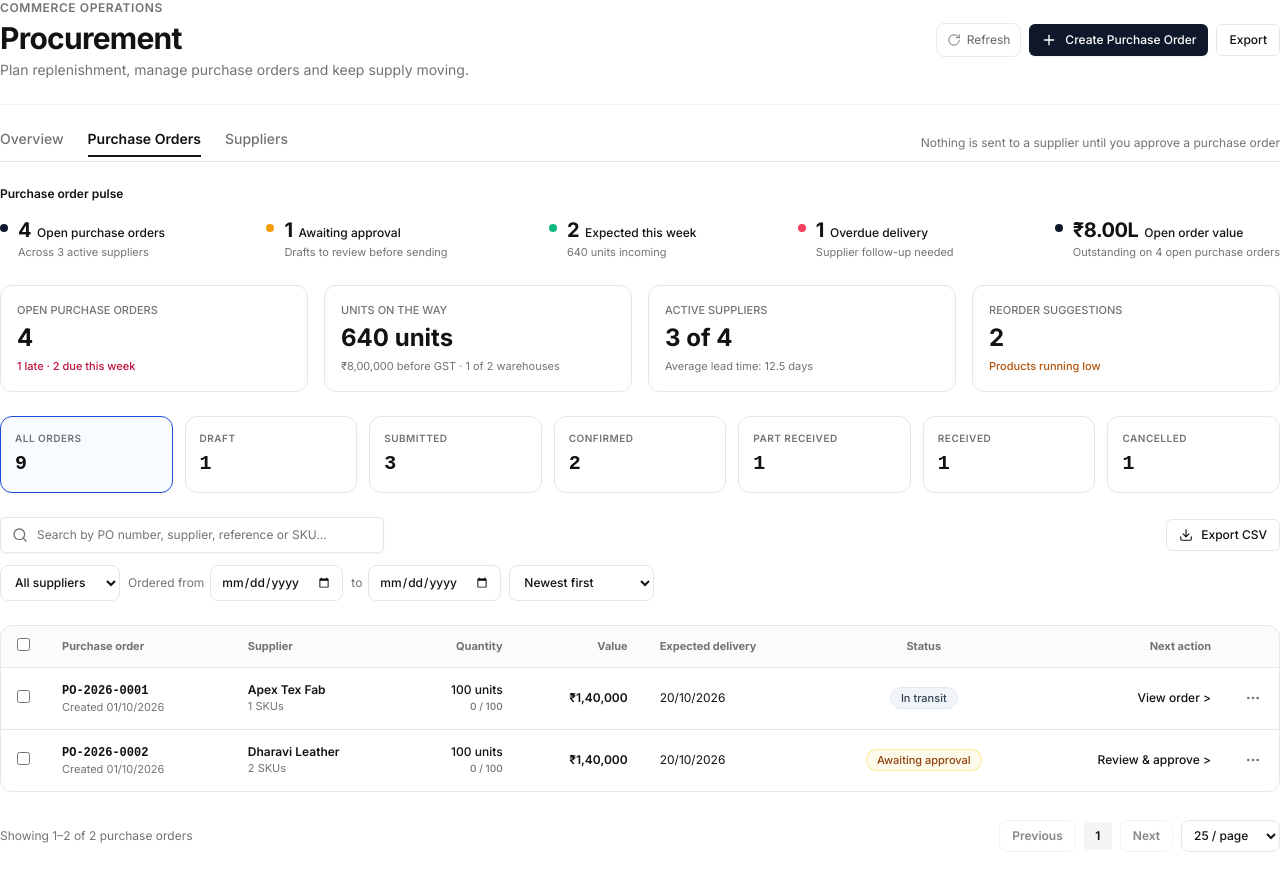
ProcurementPage: create and edit › maps a server field error onto its field and keeps the dialog open
Expected: the row with test id "po-row-PO-2026-0001" is shown, 1,667 -> 1279,729
Click the button with aria-label "New purchase order". click: (1119, 40)
box: 1029,24 -> 1208,56
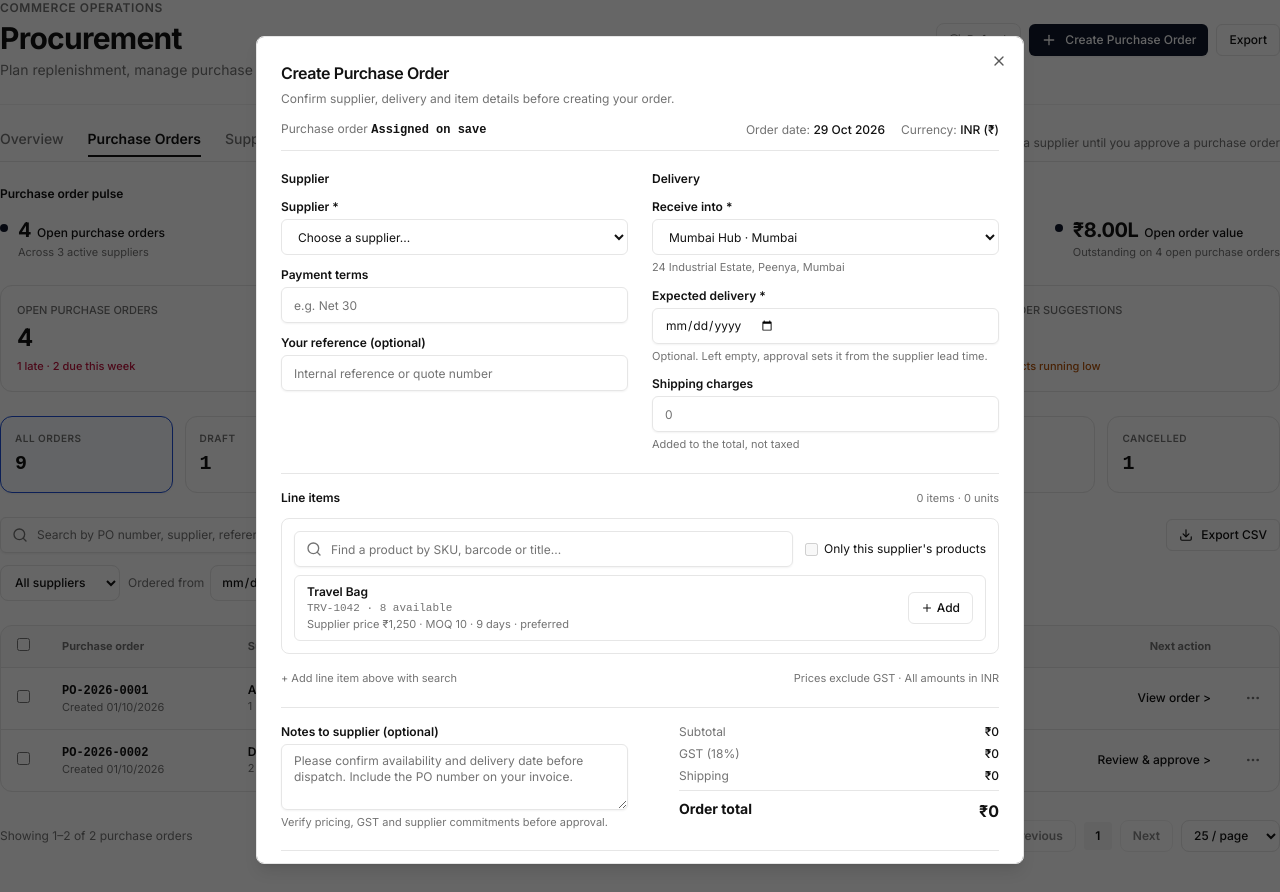
Select "Apex Tex Fab (Surat)" in the dropdown labelled "Supplier *". click: (454, 237)
box: 281,219 -> 628,255
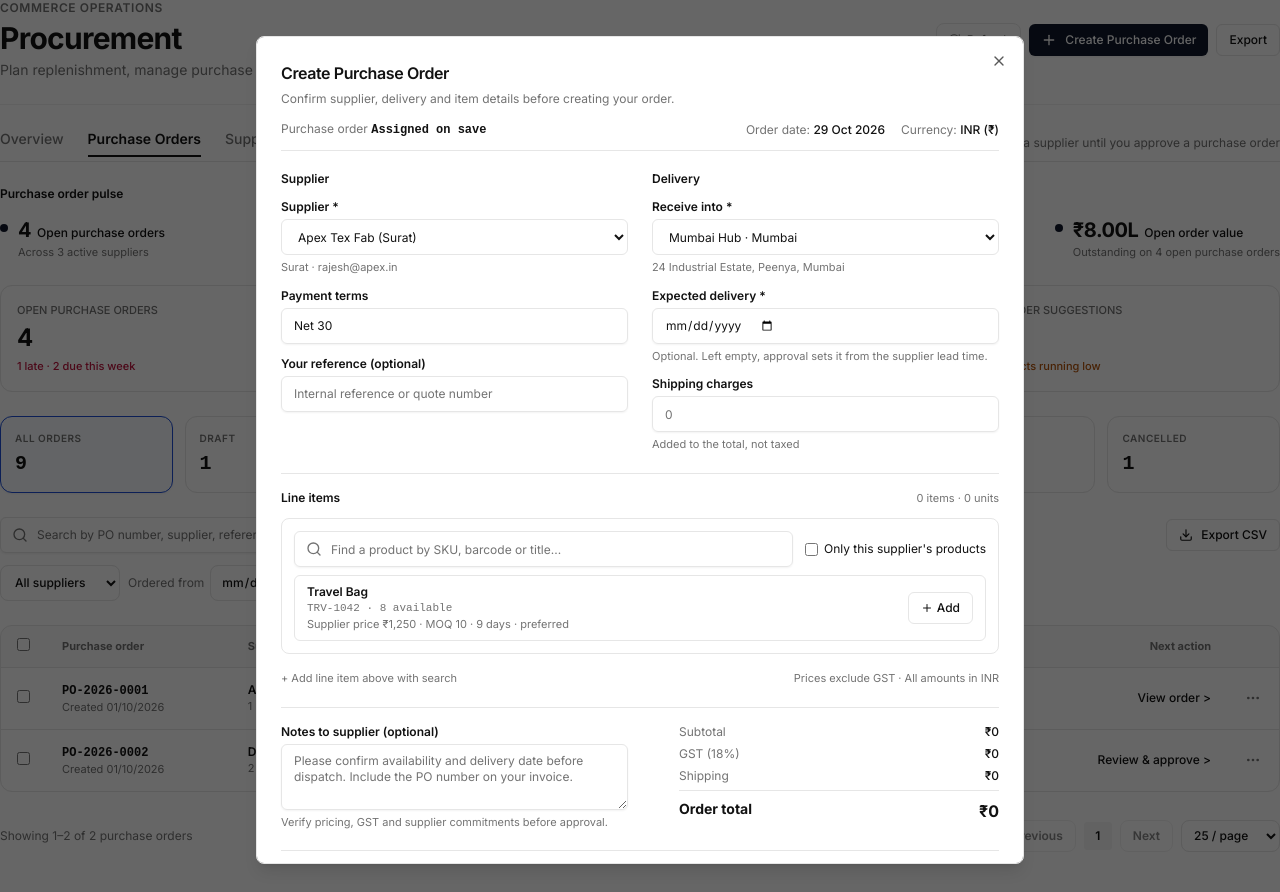
Click the button with aria-label "Add TRV-1042". click: (940, 608)
box: 908,592 -> 973,624
(page scrolled)
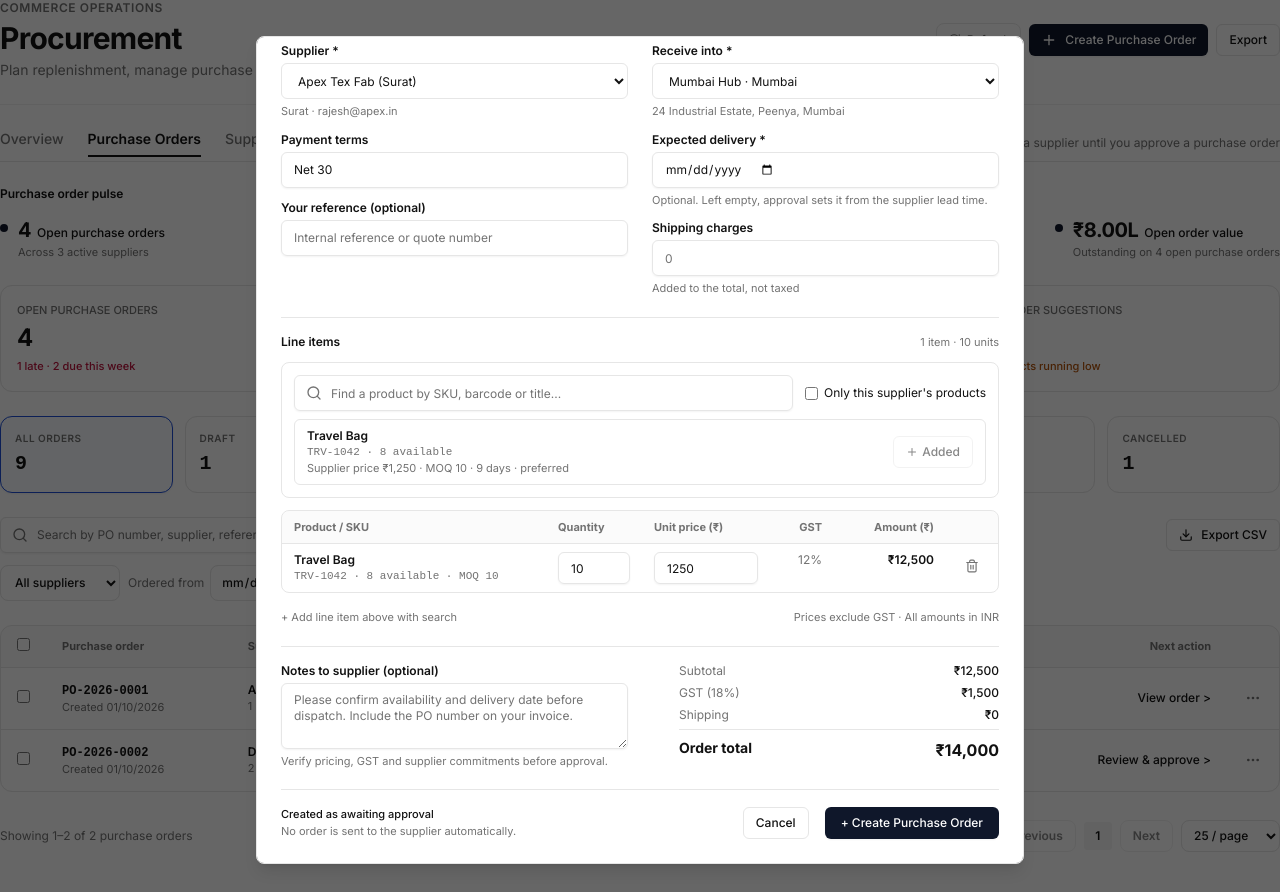
Click the button with aria-label "Create draft". click: (912, 822)
box: 825,806 -> 999,838
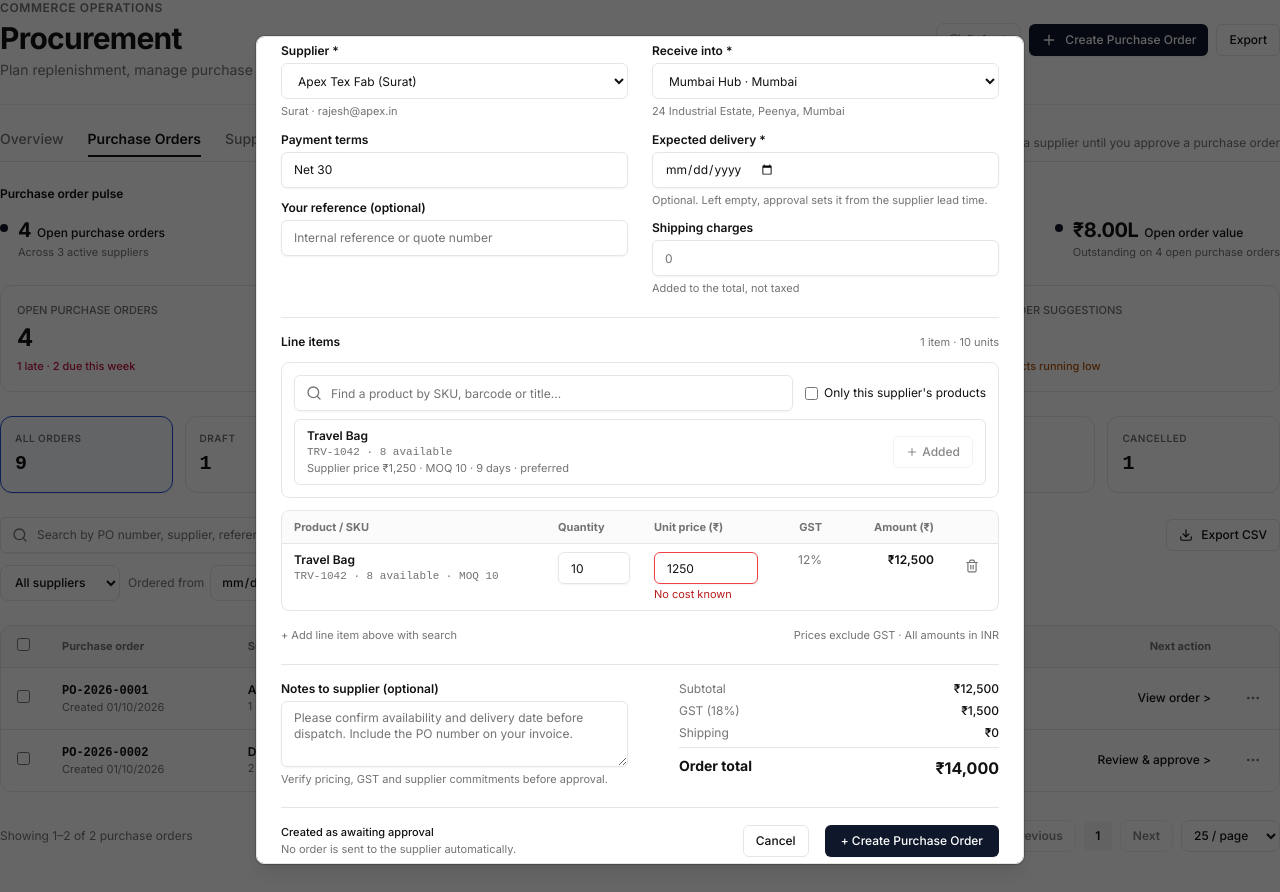
Result: the dialog named "New purchase order" is shown at 256,36 -> 1024,864
Result: the text "No cost known" is shown at 654,587 -> 732,601
